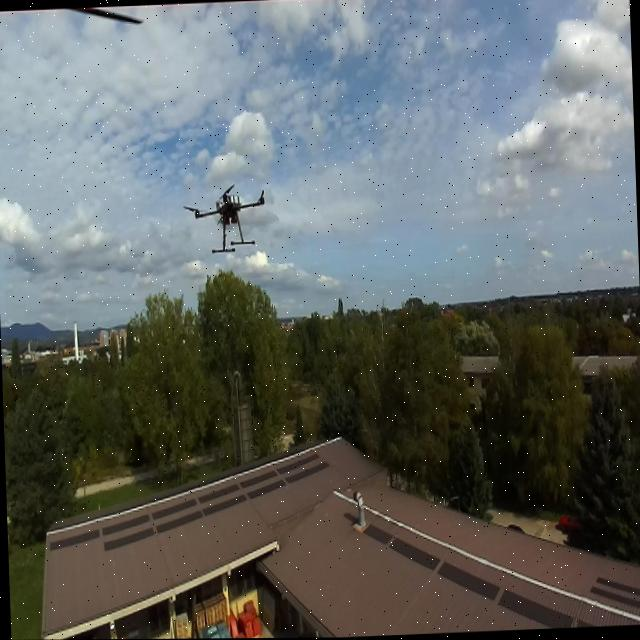drone: (170, 111, 284, 311)
